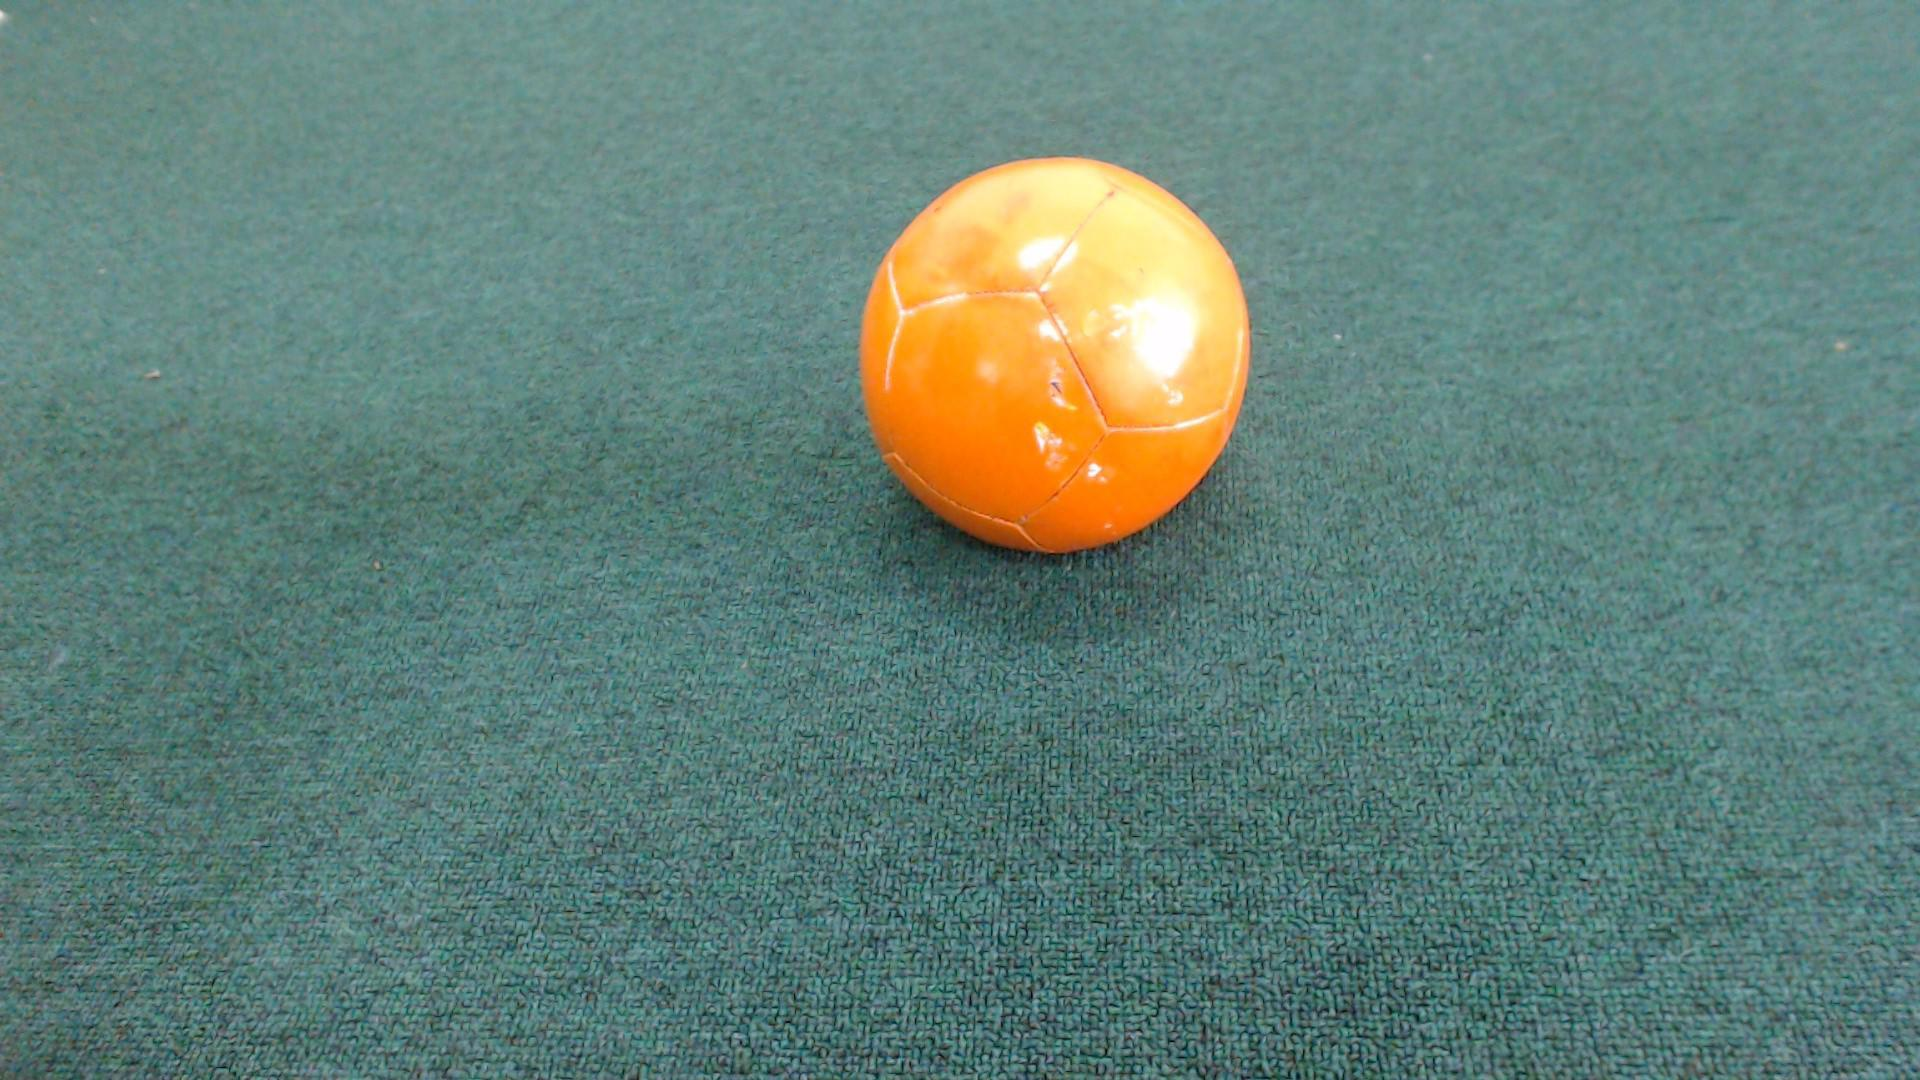bola: (832, 146, 1267, 575)
